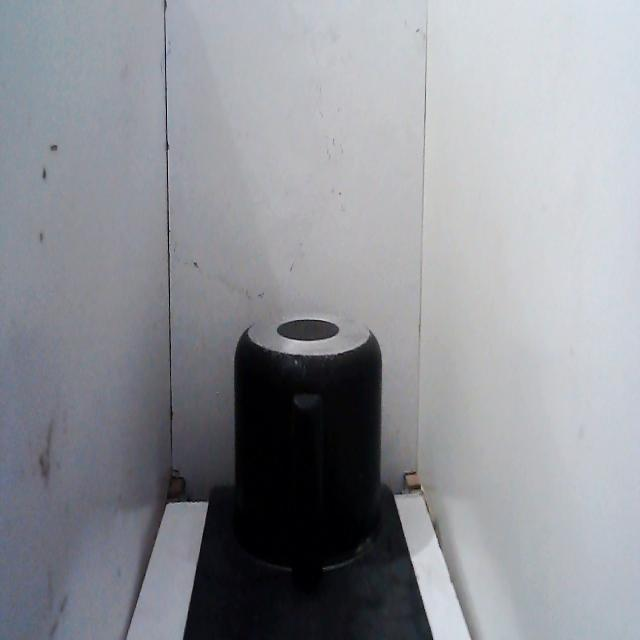metal: (227, 301, 387, 615)
